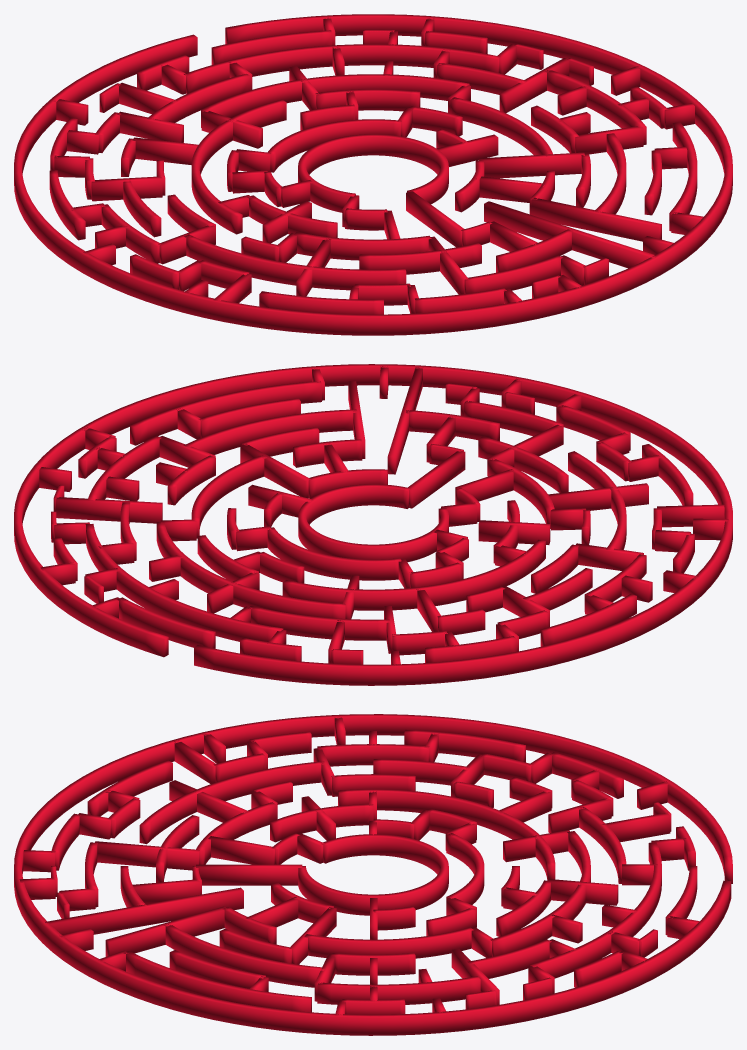
The model's file is TestingMaze.gltf.
The picture shows the model from 3 angles, top to bottom: view 1: azimuth 30°, elevation 25°; view 2: azimuth 150°, elevation 25°; view 3: azimuth 270°, elevation 25°; orthographic projection.
Visible parts, largest first — view 1: Curve.030; view 2: Curve.030; view 3: Curve.030.
Boxes of the visible parts, x1,y1,x2,y2 form: Curve.030: (14, 14, 732, 335); Curve.030: (14, 364, 732, 685); Curve.030: (14, 714, 732, 1035).
Size of the model in its own units: 0.1828 by 0.005 by 0.1828.
